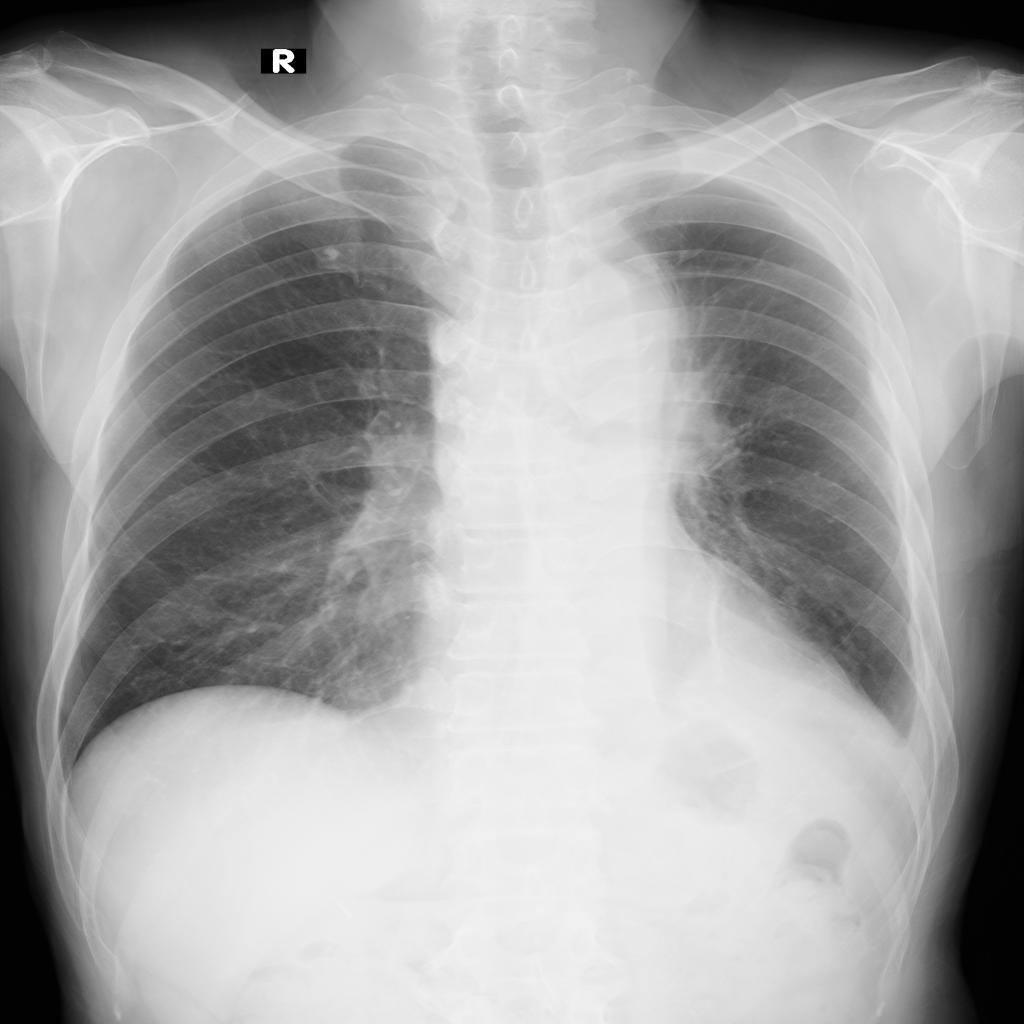Nodule: (325, 245, 341, 261)
